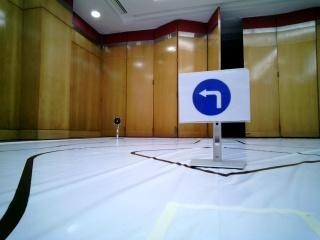left: (189, 76, 244, 120)
